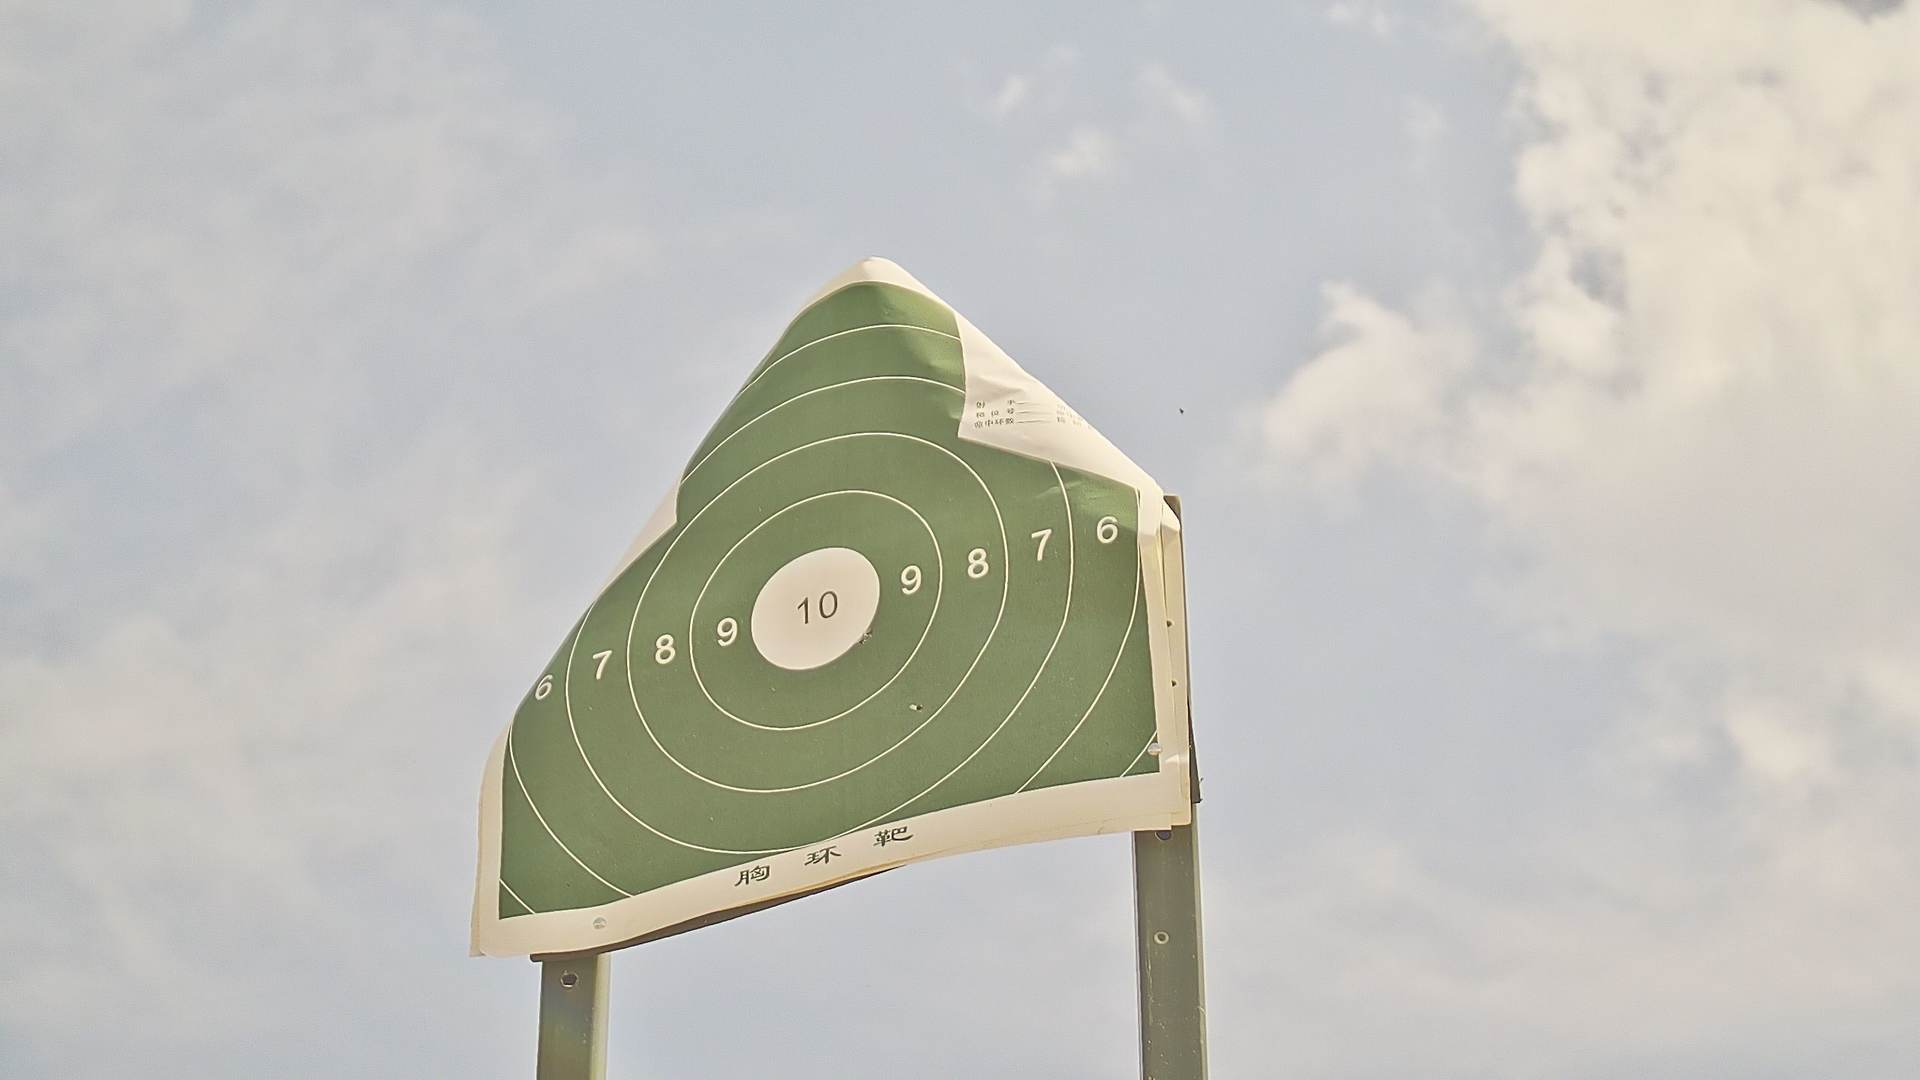hole: (857, 636, 868, 644), (866, 626, 874, 634), (914, 703, 922, 709)
kernel: (812, 607, 819, 608)
target: (508, 284, 1155, 914)
ten: (748, 545, 881, 673)
